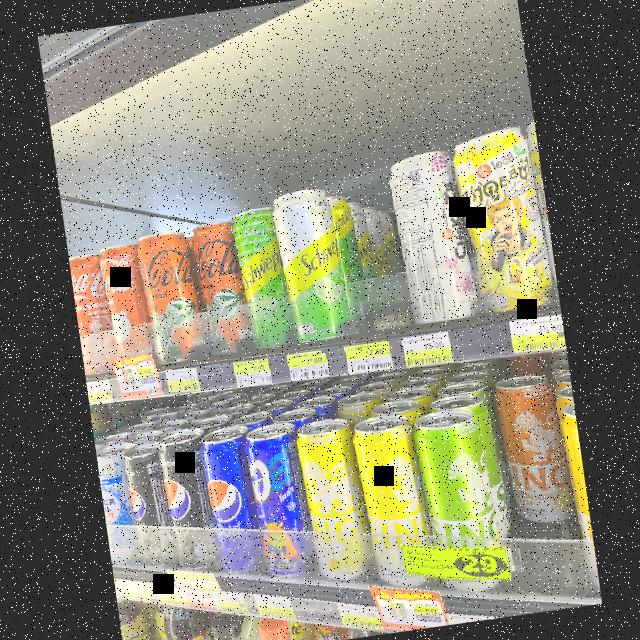can: (434, 130, 560, 318), (372, 144, 498, 326), (410, 403, 510, 581), (350, 404, 434, 582), (488, 371, 578, 526), (270, 187, 356, 341), (221, 203, 308, 349), (295, 410, 368, 582), (199, 419, 277, 575), (147, 428, 230, 570), (246, 418, 318, 572), (185, 215, 263, 352), (135, 227, 212, 356), (96, 230, 170, 360), (120, 448, 182, 564), (68, 248, 123, 376), (339, 190, 388, 312), (98, 456, 150, 568)
